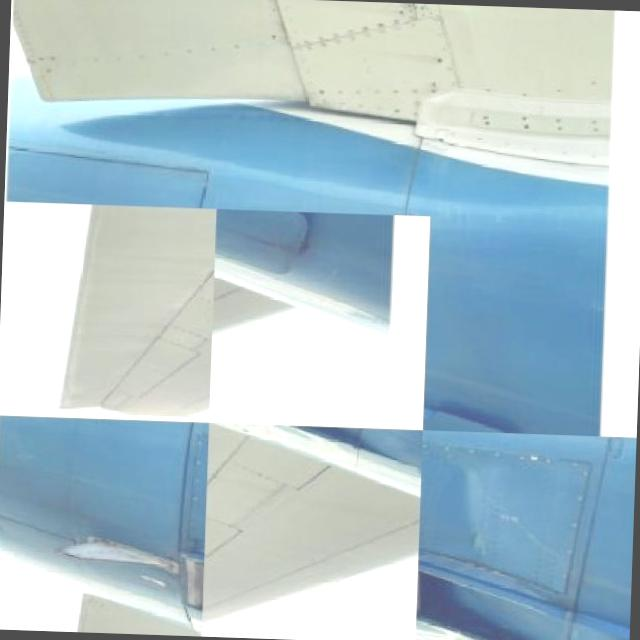dent: (434, 440, 506, 546)
